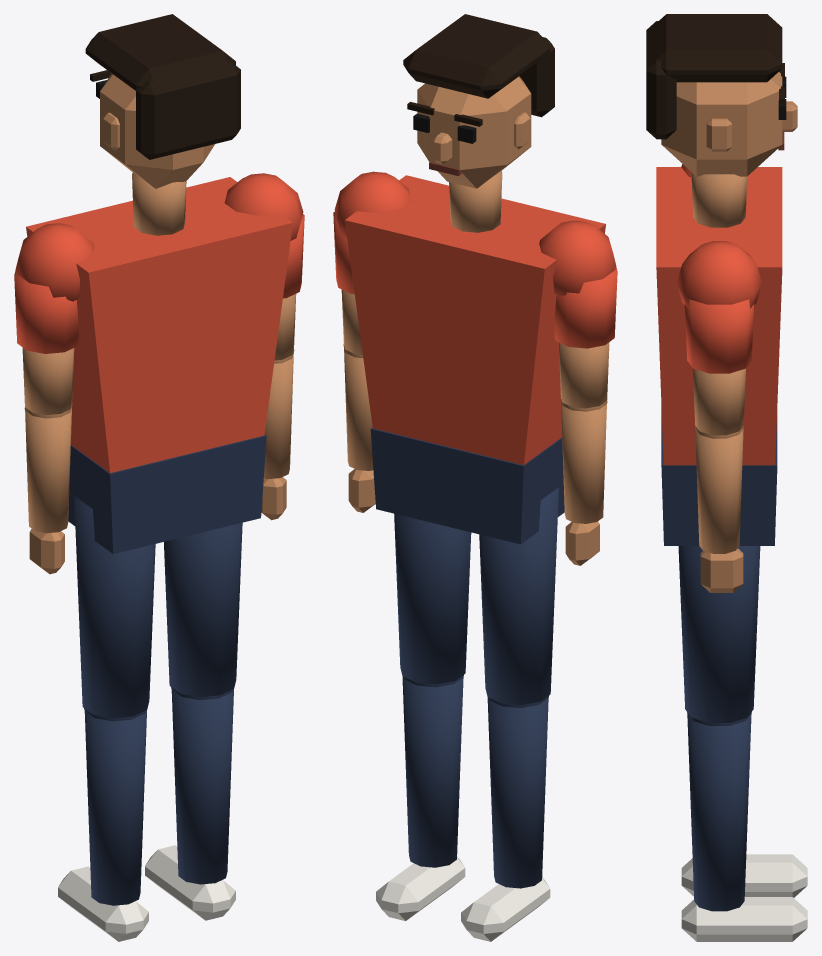
File: protagonista.glb
3 views of the same model, side by side, from view 1: azimuth 30°, elevation 25°; view 2: azimuth 150°, elevation 25°; view 3: azimuth 270°, elevation 25° (orthographic). The views are drawn at different scales.
Parts seen in each view (by area): view 1: tronco, cabeca, canela_esq, canela_dir, perna_esq, perna_dir, braco_esq, antebraco_esq, antebraco_dir, braco_dir; view 2: tronco, cabeca, canela_dir, canela_esq, perna_esq, perna_dir, braco_esq, antebraco_esq, antebraco_dir, braco_dir; view 3: tronco, cabeca, canela_dir, perna_dir, braco_dir, antebraco_dir, canela_esq.
Boxes of the visible parts, <box> form: tronco: <box>15,172,303,554</box>; cabeca: <box>85,14,240,188</box>; canela_esq: <box>58,710,148,941</box>; canela_dir: <box>145,689,235,920</box>; perna_esq: <box>74,496,155,721</box>; perna_dir: <box>164,522,242,699</box>; braco_esq: <box>14,270,78,418</box>; antebraco_esq: <box>25,408,71,574</box>; antebraco_dir: <box>261,353,293,520</box>; braco_dir: <box>274,214,304,363</box>; tronco: <box>334,170,616,544</box>; cabeca: <box>403,14,554,188</box>; canela_dir: <box>376,676,465,920</box>; canela_esq: <box>461,697,550,941</box>; perna_esq: <box>479,488,558,707</box>; perna_dir: <box>394,513,471,687</box>; braco_esq: <box>554,266,617,411</box>; antebraco_esq: <box>561,401,606,565</box>; antebraco_dir: <box>344,348,375,512</box>; braco_dir: <box>333,211,363,357</box>; tronco: <box>656,164,782,545</box>; cabeca: <box>646,14,797,176</box>; canela_dir: <box>681,713,807,941</box>; perna_dir: <box>678,546,760,725</box>; braco_dir: <box>684,299,754,438</box>; antebraco_dir: <box>695,429,743,592</box>; canela_esq: <box>681,854,807,897</box>.
Size of the model in its own units: 0.6431 by 1.94 by 0.32.
